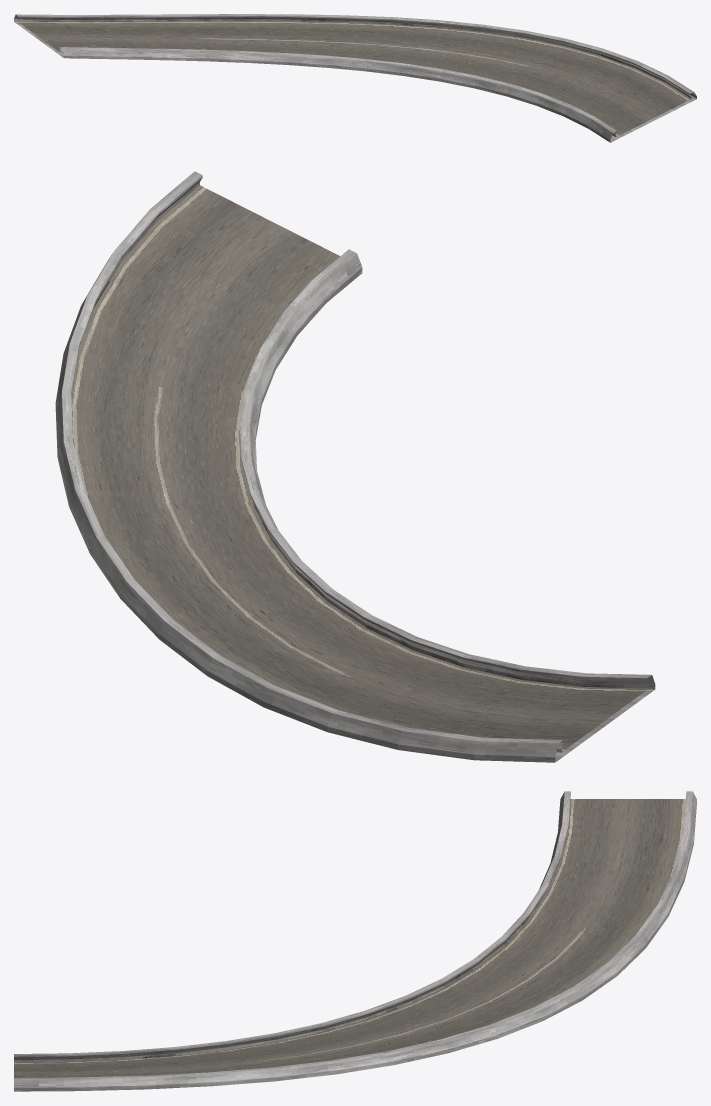
File: turn-left5x5.glb
The picture shows the model from 3 angles, top to bottom: view 1: azimuth 30°, elevation 25°; view 2: azimuth 150°, elevation 25°; view 3: azimuth 270°, elevation 25°; orthographic projection. The views are drawn at different scales.
Parts seen in each view (by area): view 1: road-Turn-HalfBankedLeft-BiSlopeUp-Up1-Left-Size5; view 2: road-Turn-HalfBankedLeft-BiSlopeUp-Up1-Left-Size5; view 3: road-Turn-HalfBankedLeft-BiSlopeUp-Up1-Left-Size5.
Boxes of the visible parts, <box> form: road-Turn-HalfBankedLeft-BiSlopeUp-Up1-Left-Size5: <box>14,14,696,142</box>; road-Turn-HalfBankedLeft-BiSlopeUp-Up1-Left-Size5: <box>55,171,655,762</box>; road-Turn-HalfBankedLeft-BiSlopeUp-Up1-Left-Size5: <box>14,791,696,1091</box>.
Bounding box in the file's own units: 5 × 0.4259 × 5.
Materials: 2 (2 with a texture image).
